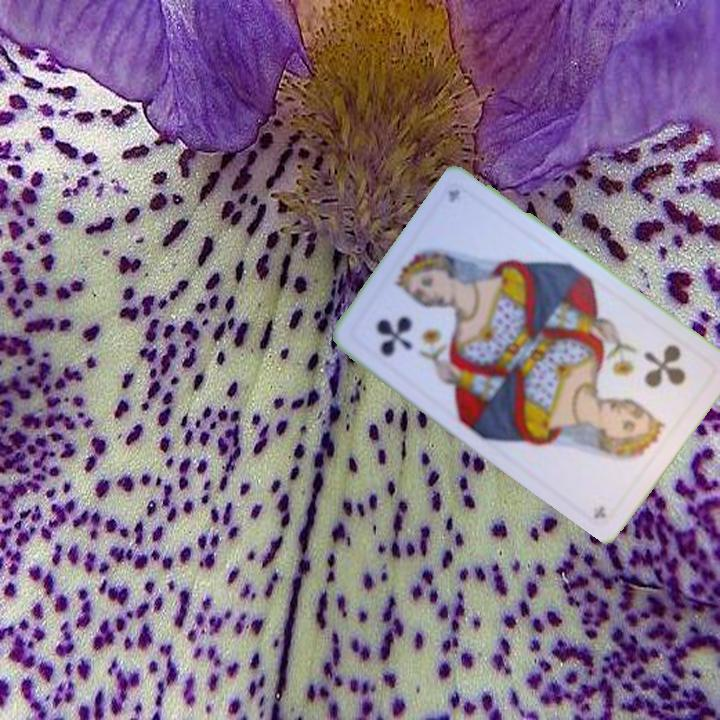c_q.png: (345, 258, 471, 387), (592, 319, 718, 448)
